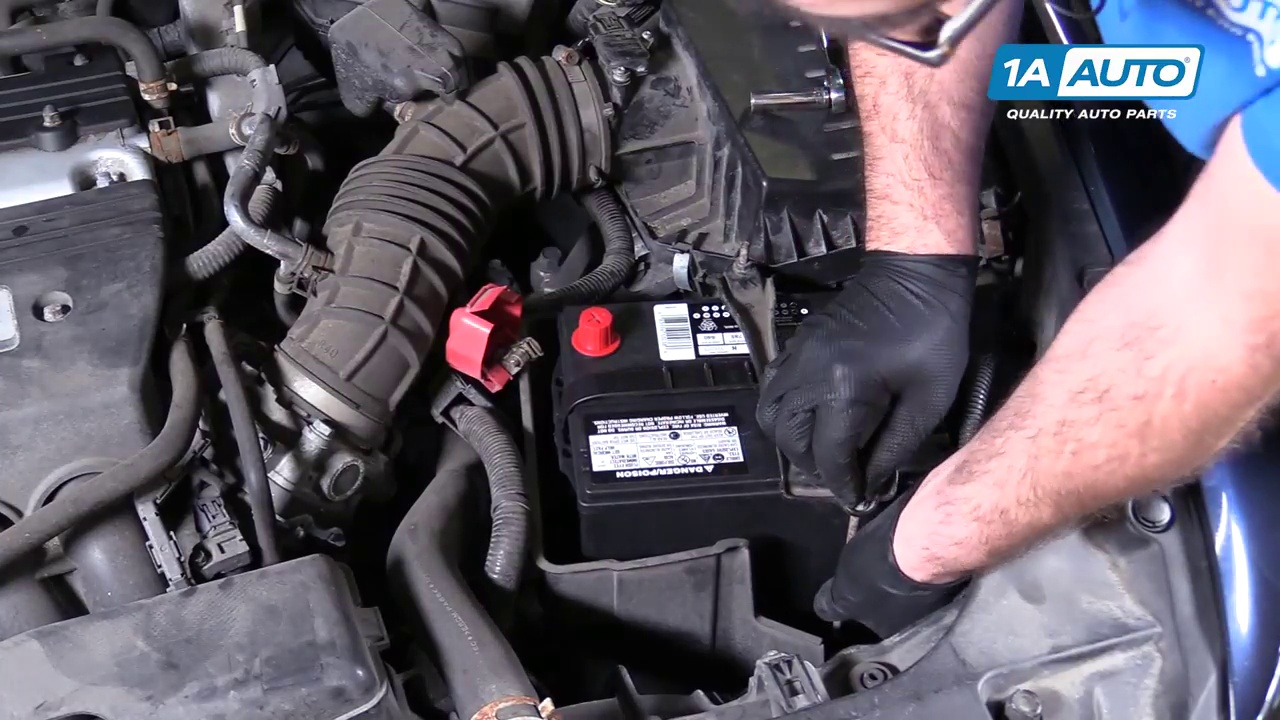battery: (557, 276, 837, 488)
pos_disconnected: (438, 271, 638, 392)
